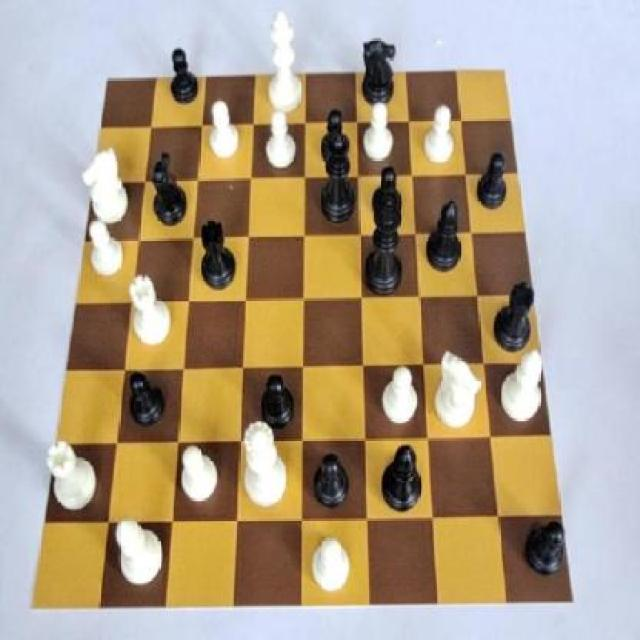bishop: (369, 438, 432, 518), (420, 190, 465, 274)
black-bishop: (363, 185, 419, 298)
black-king: (142, 143, 196, 235), (357, 32, 408, 112)
black-knight: (520, 510, 569, 586), (160, 40, 208, 112), (252, 371, 305, 436), (125, 364, 173, 434), (368, 155, 413, 228), (318, 102, 361, 176), (311, 444, 352, 516), (475, 151, 513, 221)
black-pawn: (314, 130, 360, 224)
black-queen: (489, 268, 541, 357), (194, 220, 241, 297)
black-rook: (105, 515, 172, 600), (497, 338, 548, 432)
white-bishop: (264, 6, 306, 119)
white-king: (74, 140, 130, 235), (432, 346, 487, 434)
white-knight: (306, 531, 357, 607), (178, 436, 224, 520), (358, 95, 402, 178), (378, 360, 422, 434), (207, 94, 246, 170), (416, 99, 456, 173), (85, 214, 124, 286), (261, 108, 297, 178)
white-pawn: (240, 412, 289, 512)
white-queen: (126, 264, 179, 356), (43, 440, 105, 514)
